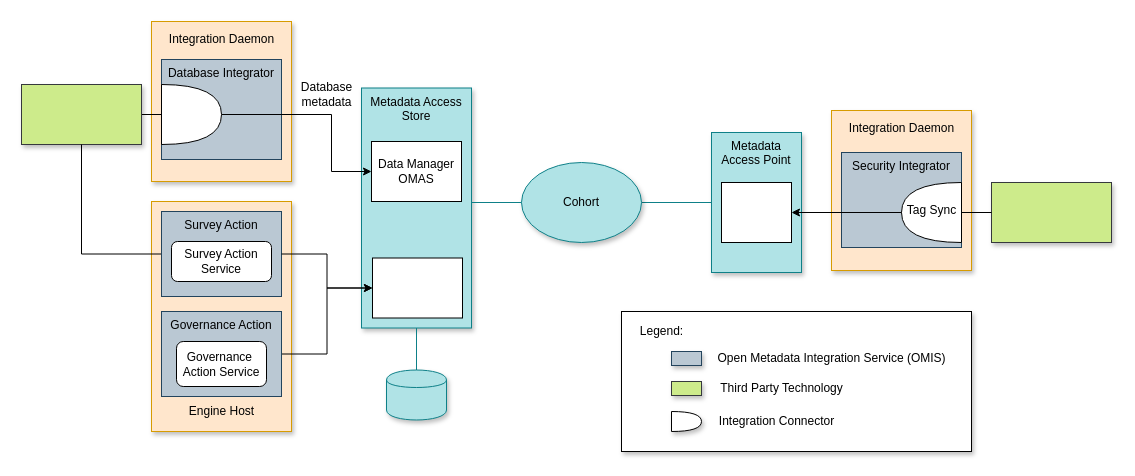
This 1135x476 diagram has some shape labels left out. Here are the shapes that lost their labels. From the top down, the centre of each, then its label:
point 82,116: Database Server
point 191,114: Database Extractor
point 756,212: Security Manager OMAS
point 1052,214: Security Manager
point 417,287: Governance Engine OMAS
